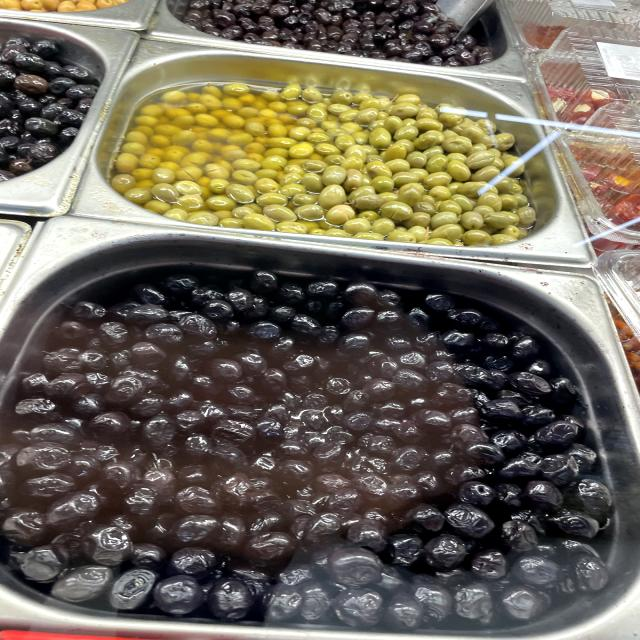olive: (318, 541, 391, 594), (43, 561, 117, 605), (433, 496, 500, 543), (162, 508, 230, 552), (137, 409, 180, 455), (96, 375, 148, 408), (334, 327, 382, 360), (174, 311, 222, 342)
